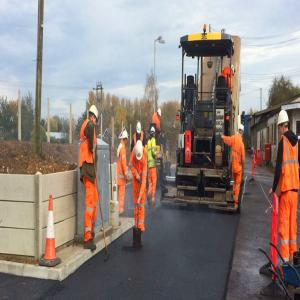white: (279, 110, 290, 138), (89, 103, 99, 128), (136, 140, 144, 162), (122, 130, 129, 146), (137, 123, 143, 137), (239, 124, 244, 138), (151, 128, 157, 139), (158, 108, 163, 120), (231, 65, 235, 79)
